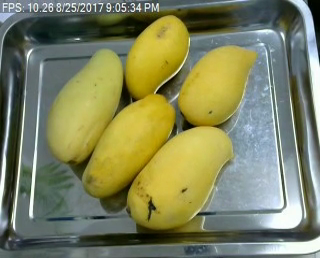Mango: (126, 122, 236, 230), (81, 94, 179, 200), (46, 48, 125, 168), (178, 42, 258, 128), (124, 11, 191, 99)
